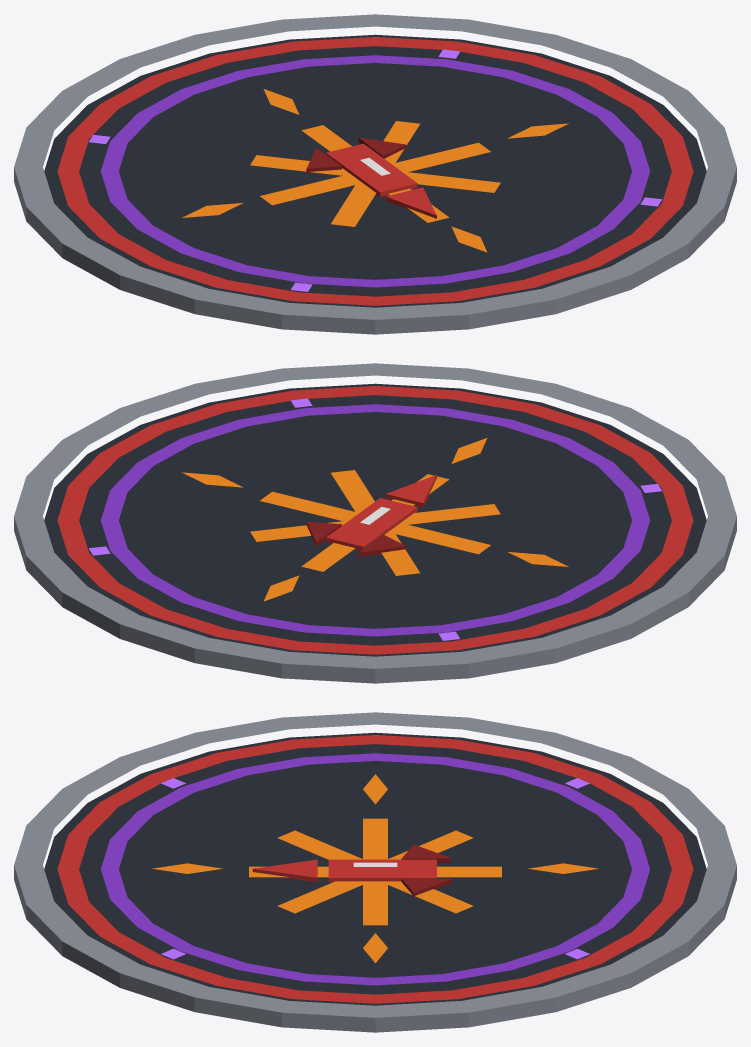
The model's file is rocket_soldier_rare_area.glb.
3 views of the same model, one above another, from view 1: azimuth 30°, elevation 25°; view 2: azimuth 150°, elevation 25°; view 3: azimuth 270°, elevation 25° (orthographic).
Visible parts, largest first — view 1: rocket_soldier_rare_area; view 2: rocket_soldier_rare_area; view 3: rocket_soldier_rare_area.
Boxes of the visible parts, x1,y1,x2,y2 form: rocket_soldier_rare_area: (14, 14, 736, 334); rocket_soldier_rare_area: (14, 363, 736, 683); rocket_soldier_rare_area: (14, 712, 736, 1032).
Bounding box in the file's own units: 2 × 0.046 × 2.
Materials: 2 (2 with a texture image).
